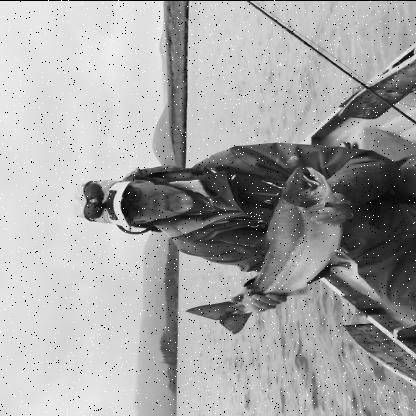fish: (182, 165, 348, 335)
